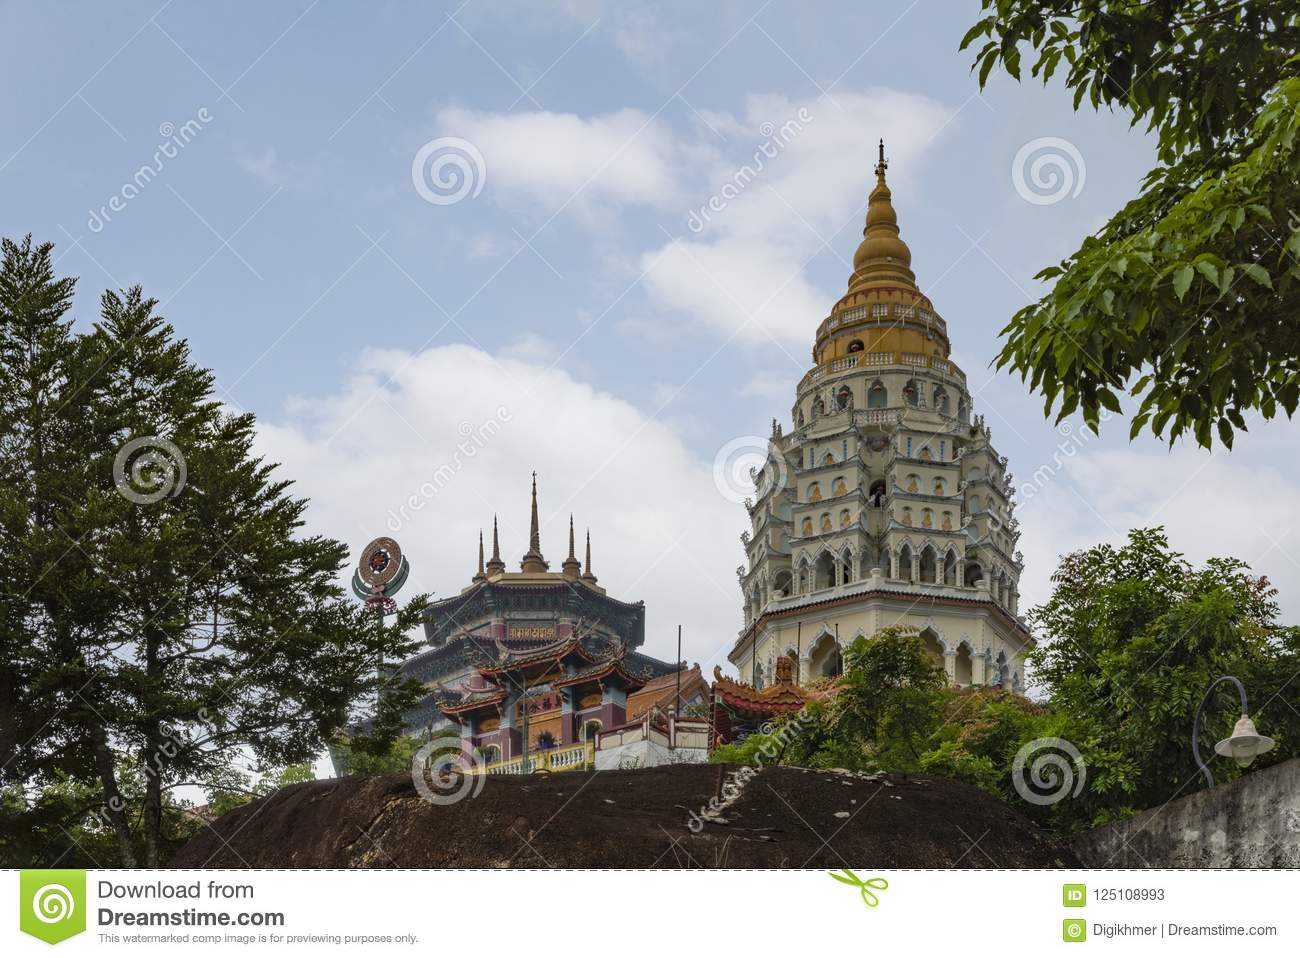Buddhist Temple: (708, 121, 1013, 708)
